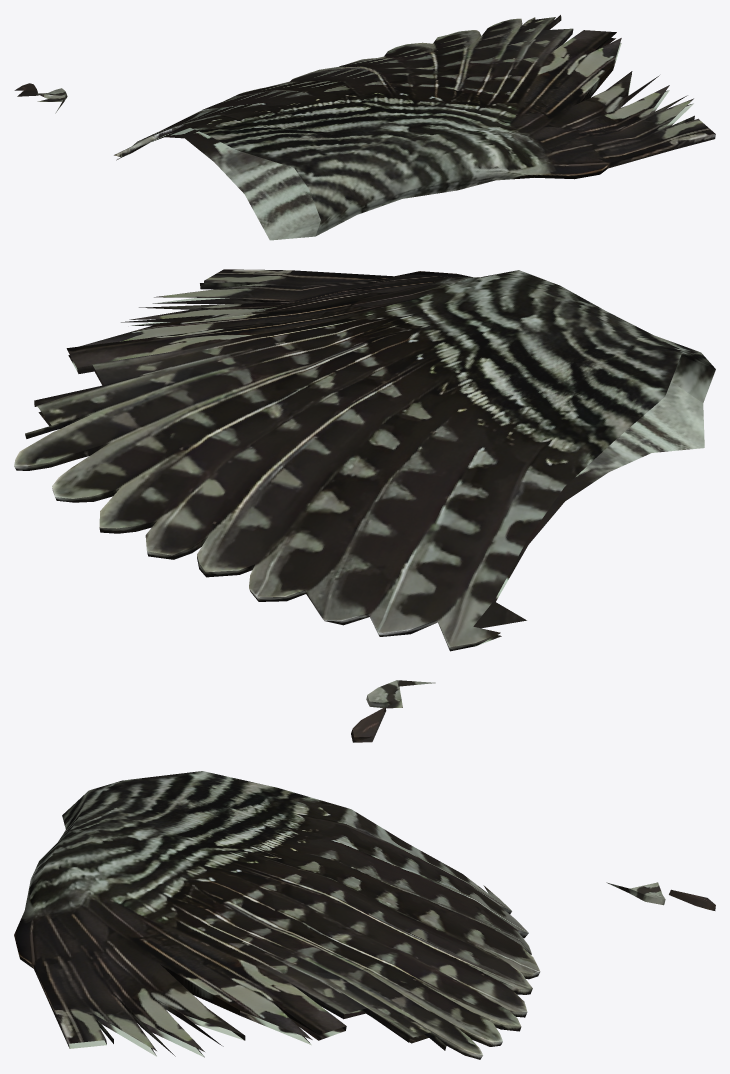
Rendered from Woodpecker_R_in.gltf.
The picture shows the model from 3 angles, top to bottom: view 1: azimuth 30°, elevation 25°; view 2: azimuth 150°, elevation 25°; view 3: azimuth 270°, elevation 25°; orthographic projection. The views are drawn at different scales.
Parts seen in each view (by area): view 1: Woodpecker_R_in; view 2: Woodpecker_R_in; view 3: Woodpecker_R_in.
Boxes of the visible parts, box(x1,y1,x2,y2) form: Woodpecker_R_in: box(14, 15, 715, 240); Woodpecker_R_in: box(14, 269, 715, 742); Woodpecker_R_in: box(14, 771, 715, 1059).
Size of the model in its own units: 0.0907 by 0.025 by 0.1123.
1 material, 1 textured.
